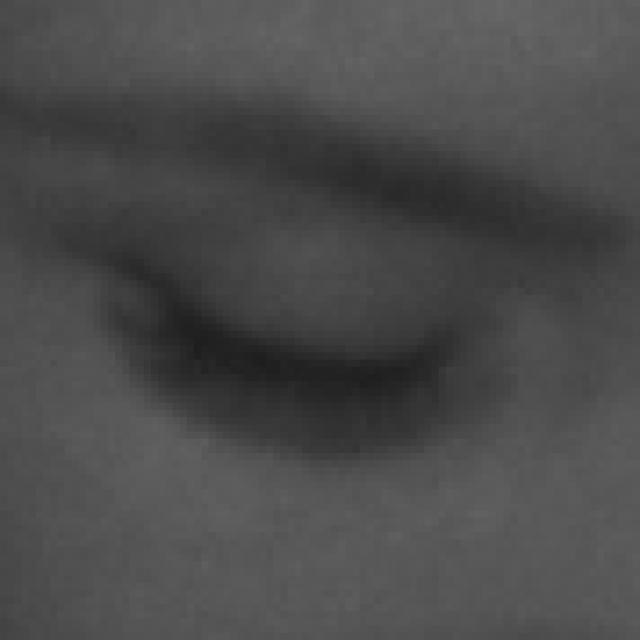Eyeclosed: (114, 192, 465, 541)
